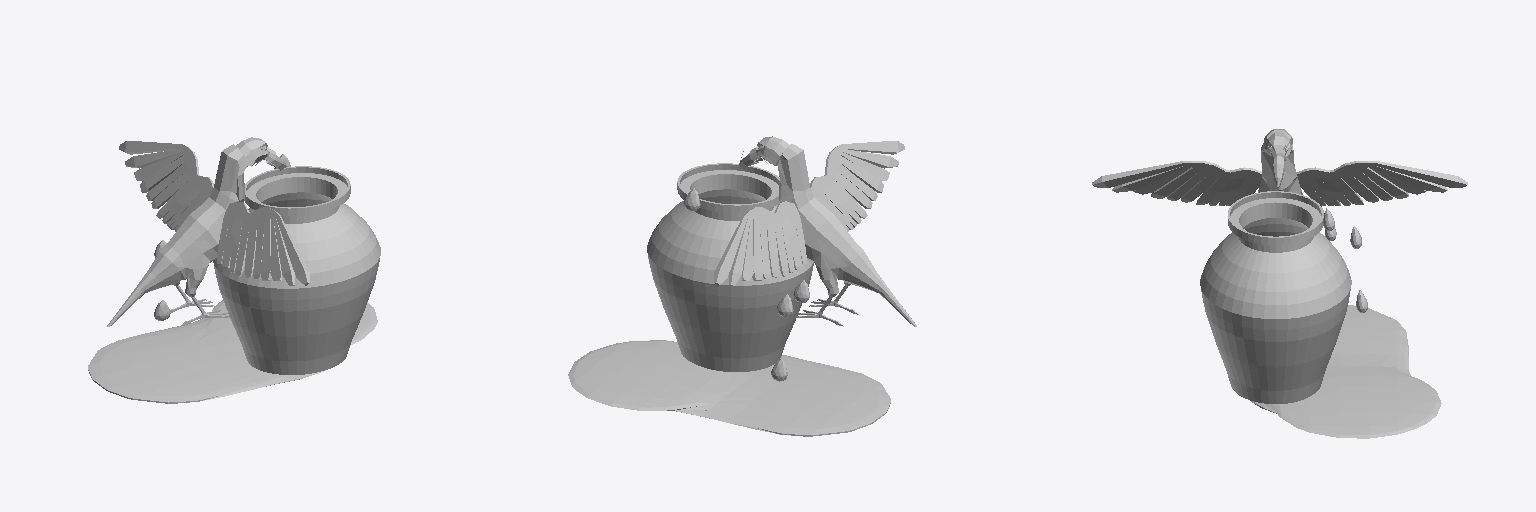
Rendered from bheegahuakaua2.obj.
The picture shows the model from 3 angles: view 1: azimuth 30°, elevation 25°; view 2: azimuth 150°, elevation 25°; view 3: azimuth 270°, elevation 25°; orthographic projection.
Parts seen in each view (by area): view 1: Circle, Cylinder, Mball; view 2: Circle, Mball, Cylinder; view 3: Circle, Mball, Cylinder.
Boxes of the visible parts, x1,y1,x2,y2 form: Circle: [213, 166, 380, 374]; Cylinder: [107, 137, 309, 326]; Mball: [88, 300, 377, 403]; Circle: [647, 163, 813, 371]; Mball: [568, 340, 890, 436]; Cylinder: [714, 136, 916, 326]; Circle: [1200, 191, 1351, 403]; Mball: [1251, 305, 1441, 438]; Cylinder: [1092, 129, 1467, 206].
Size of the model in its own units: 1.18 by 0.8924 by 1.28.